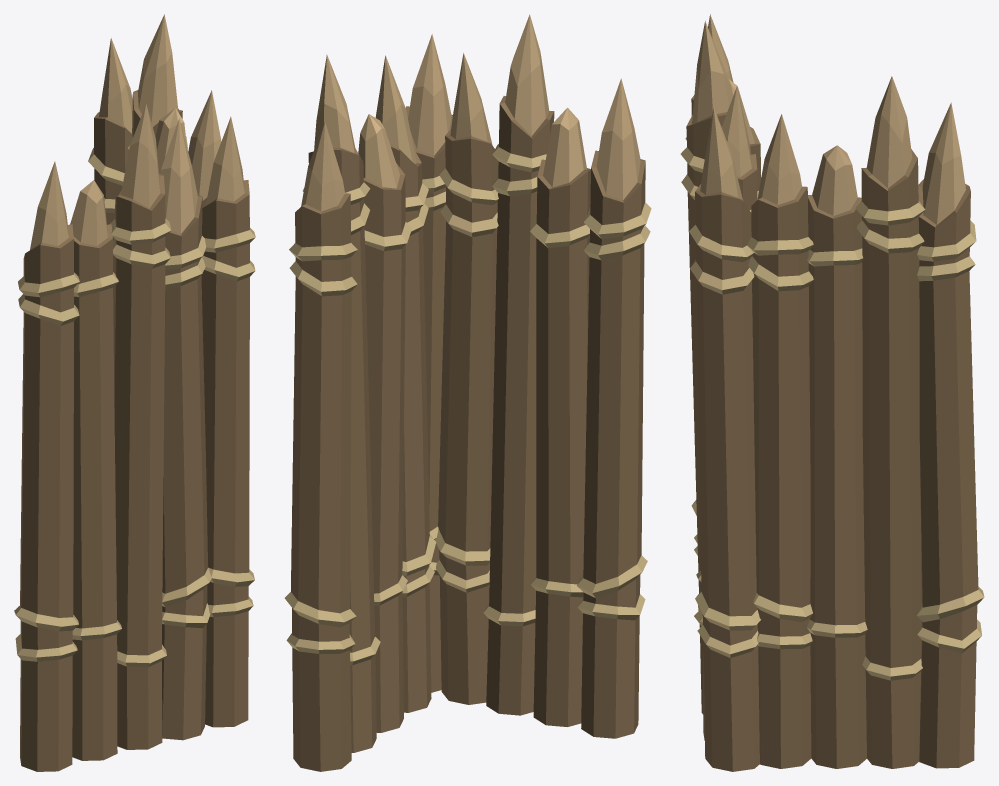
The model's file is rpgpp_ag_stockade_01a_2x6_corner.fbx.
3 views of the same model, side by side, from view 1: azimuth 30°, elevation 25°; view 2: azimuth 150°, elevation 25°; view 3: azimuth 270°, elevation 25° (orthographic). The views are drawn at different scales.
Visible parts, largest first — view 1: rpgpp_ag_stockade_01a_2x6_corner; view 2: rpgpp_ag_stockade_01a_2x6_corner; view 3: rpgpp_ag_stockade_01a_2x6_corner.
Boxes of the visible parts, x1,y1,x2,y2 form: rpgpp_ag_stockade_01a_2x6_corner: (14, 14, 255, 771); rpgpp_ag_stockade_01a_2x6_corner: (284, 14, 651, 771); rpgpp_ag_stockade_01a_2x6_corner: (680, 14, 984, 771).
Size of the model in its own units: 2.74 by 6.92 by 2.76.
